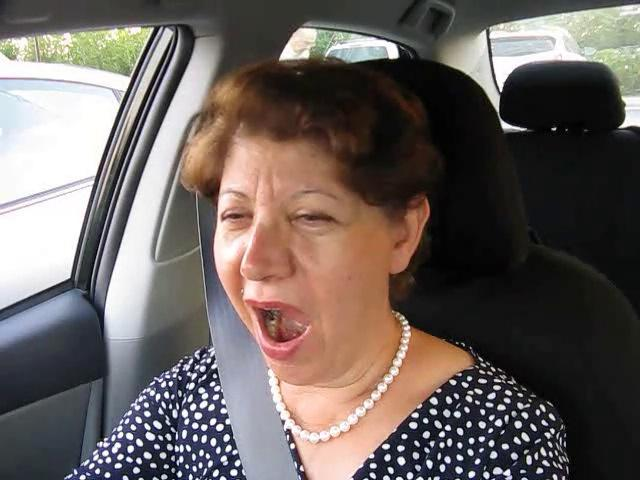close_eyeL: (207, 195, 266, 237)
close_eyeR: (273, 195, 352, 242)
yawn: (234, 294, 324, 360)
